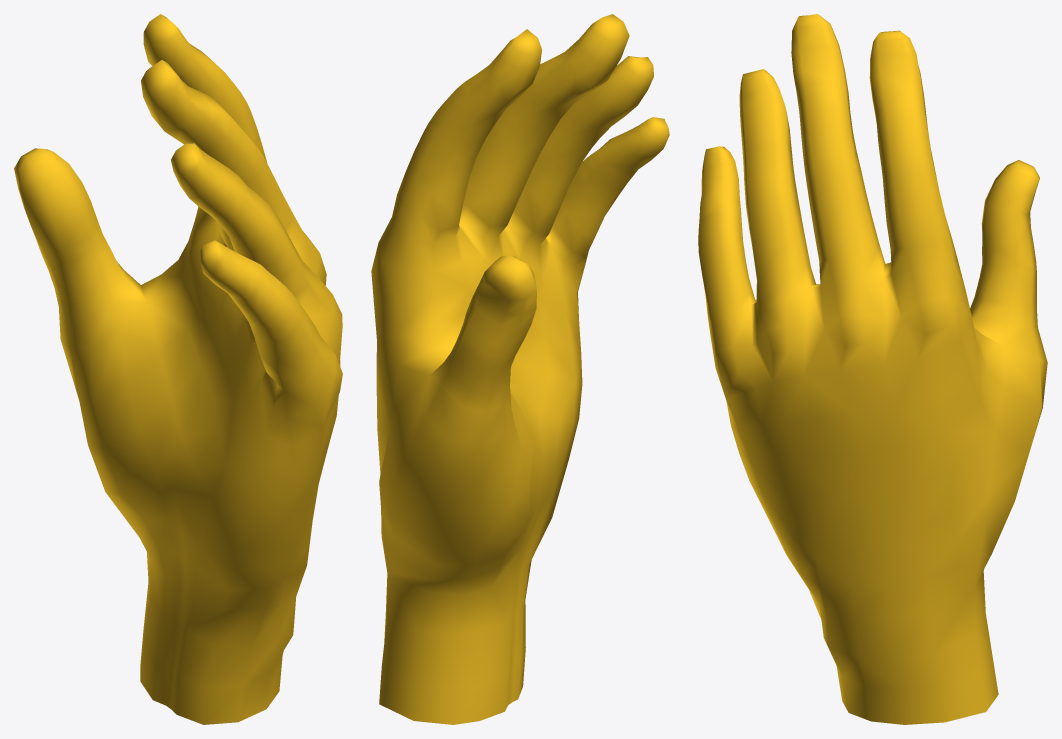
The model's file is HandGold.fbx.
The picture shows the model from 3 angles, left to right: view 1: azimuth 30°, elevation 25°; view 2: azimuth 150°, elevation 25°; view 3: azimuth 270°, elevation 25°; orthographic projection. The views are drawn at different scales.
Visible parts, largest first — view 1: Hand_Left; view 2: Hand_Left; view 3: Hand_Left.
Boxes of the visible parts, x1=… form: Hand_Left: x1=14, y1=14, x2=342, y2=724; Hand_Left: x1=371, y1=14, x2=669, y2=724; Hand_Left: x1=698, y1=14, x2=1047, y2=724.
Size of the model in its own units: 768 by 2345 by 1144.
